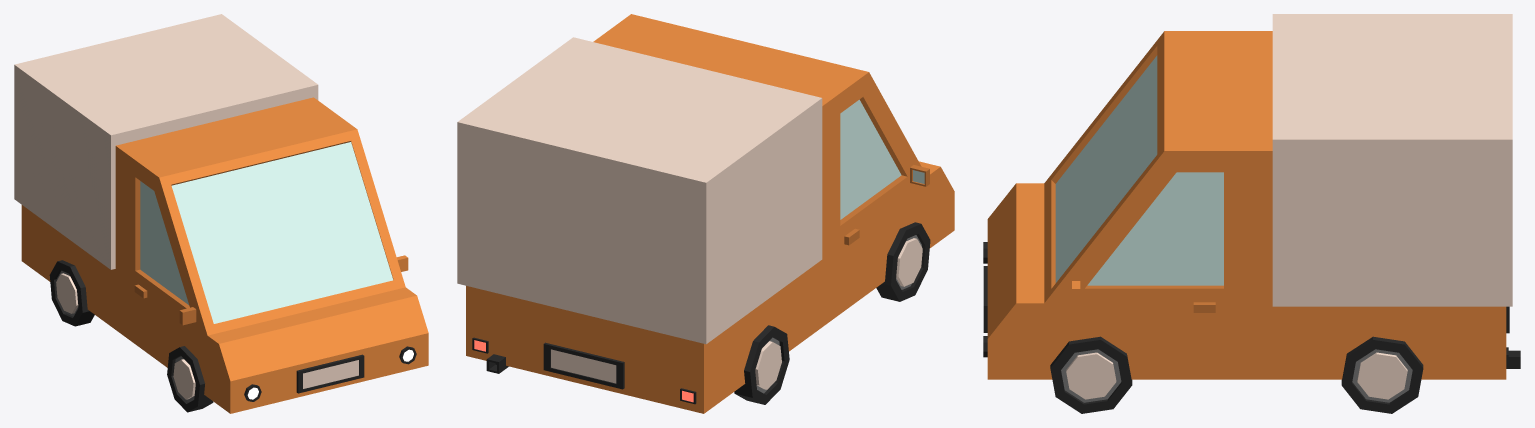
The model's file is Camion2.fbx.
3 views of the same model, side by side, from view 1: azimuth 30°, elevation 25°; view 2: azimuth 150°, elevation 25°; view 3: azimuth 270°, elevation 25° (orthographic). The views are drawn at different scales.
Parts seen in each view (by area): view 1: small_bus; view 2: small_bus; view 3: small_bus.
Part boxes in pixels (box(x1,y1,x2,y2)): small_bus: box(14, 14, 428, 413); small_bus: box(457, 14, 954, 413); small_bus: box(983, 14, 1520, 413).
Size of the model in its own units: 275 by 257 by 458.
